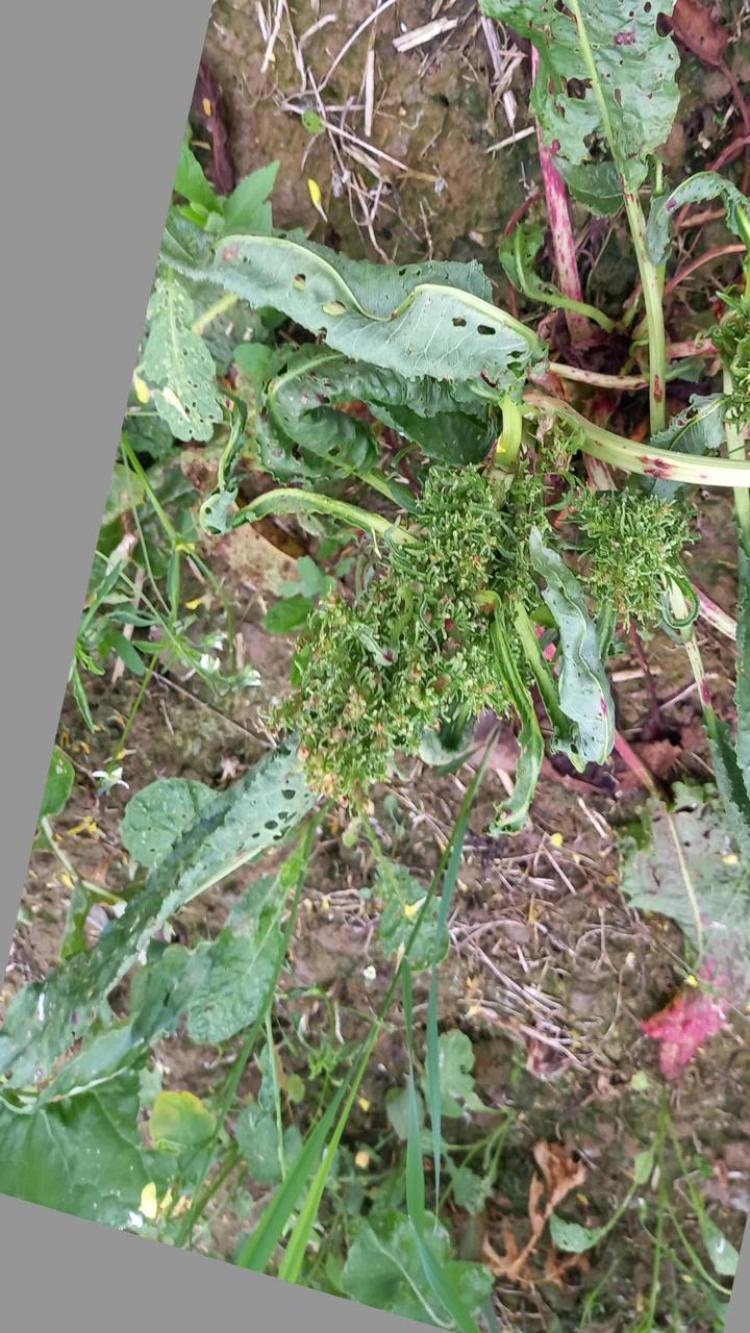zhavel: (258, 248, 750, 806)
